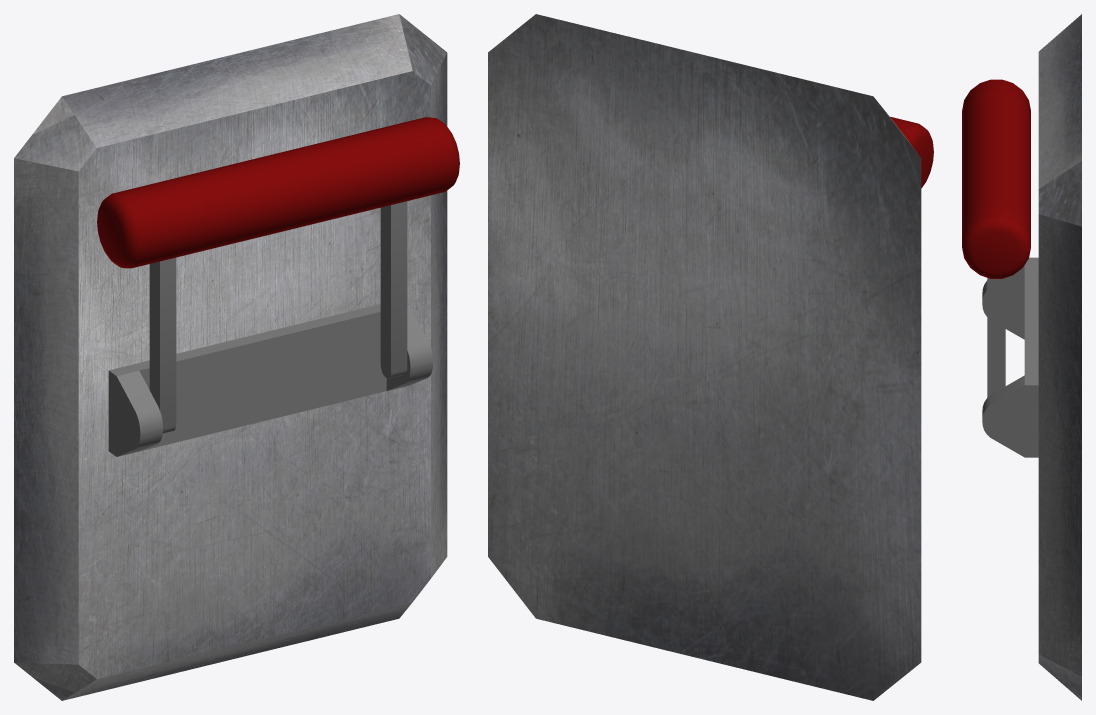
File: Lever.FBX
The picture shows the model from 3 angles, left to right: view 1: azimuth 30°, elevation 25°; view 2: azimuth 150°, elevation 25°; view 3: azimuth 270°, elevation 25°; orthographic projection. The views are drawn at different scales.
Parts seen in each view (by area): view 1: Back, Lever, Lever Anchor; view 2: Back, Lever; view 3: Back, Lever, Lever Anchor.
Part boxes in pixels (x1,y1,x2,y2): Back: (14,14,447,700); Lever: (97,117,459,433); Lever Anchor: (108,303,432,456); Back: (488,14,921,700); Lever: (890,116,933,188); Back: (1038,14,1081,700); Lever: (962,79,1030,397); Lever Anchor: (982,257,1038,457).
Bounding box in the file's own units: 0.9447 × 1.26 × 0.2535.
3 materials, 1 textured.
